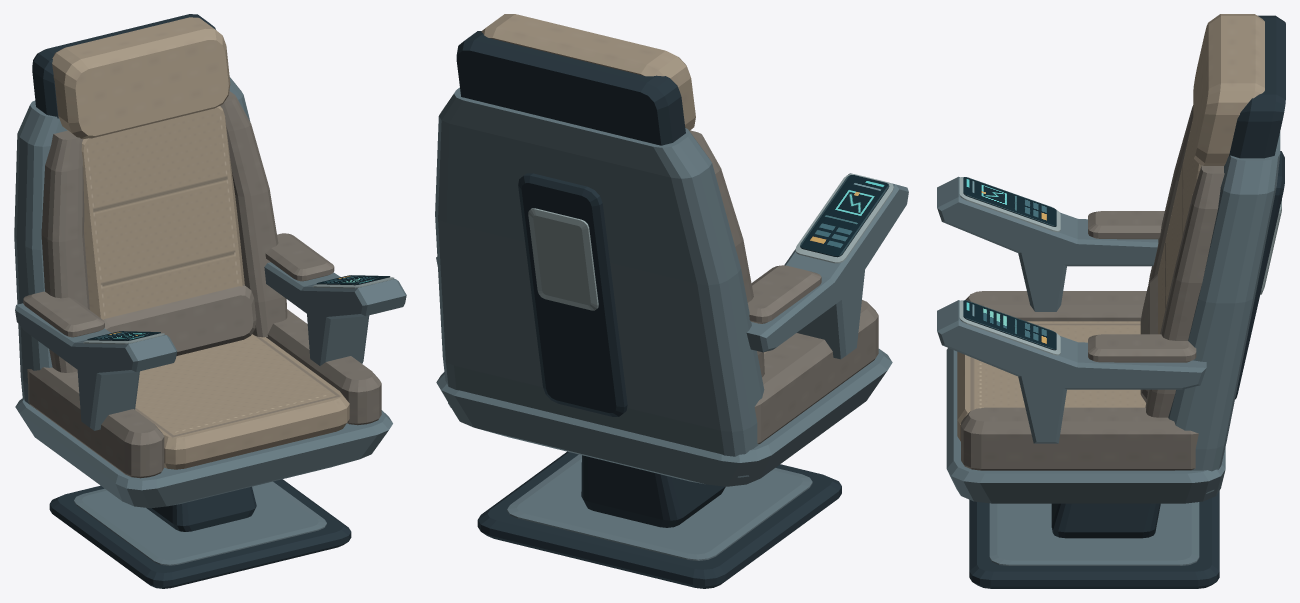
The model's file is captain_chair.obj.
3 views of the same model, side by side, from view 1: azimuth 30°, elevation 25°; view 2: azimuth 150°, elevation 25°; view 3: azimuth 270°, elevation 25° (orthographic). The views are drawn at different scales.
Visible parts, largest first — view 1: continuous_back_cushion, deep_seat_cushion, independent_padded_headrest, seat_sculpted_undertray, plinth_inset_cap, octagonal_floor_plinth, arm_left_sculpted_control_bridge, tapered_back_protective_shell, left_shoulder_bolster, right_shoulder_bolster, arm_right_sculpted_control_bridge, left_seat_bolster (+6 smaller); view 2: tapered_back_protective_shell, seat_sculpted_undertray, headrest_backing, rear_central_spine, plinth_inset_cap, octagonal_floor_plinth, arm_left_sculpted_control_bridge, left_seat_bolster, independent_padded_headrest, tapered_support_pedestal, rear_service_cover, arm_left_black_touch_surface (+3 smaller); view 3: tapered_back_protective_shell, right_seat_bolster, arm_right_sculpted_control_bridge, seat_sculpted_undertray, arm_left_sculpted_control_bridge, plinth_inset_cap, octagonal_floor_plinth, independent_padded_headrest, deep_seat_cushion, right_shoulder_bolster, headrest_backing, left_seat_bolster (+11 smaller).
Boxes of the visible parts, <box> form: continuous_back_cushion: <box>81,106,244,319</box>; deep_seat_cushion: <box>135,334,349,469</box>; independent_padded_headrest: <box>52,17,230,139</box>; seat_sculpted_undertray: <box>15,398,392,508</box>; plinth_inset_cap: <box>74,481,326,565</box>; octagonal_floor_plinth: <box>49,479,351,588</box>; arm_left_sculpted_control_bridge: <box>15,303,177,430</box>; tapered_back_protective_shell: <box>14,77,250,409</box>; left_shoulder_bolster: <box>41,130,89,372</box>; right_shoulder_bolster: <box>220,91,287,337</box>; arm_right_sculpted_control_bridge: <box>264,262,406,365</box>; left_seat_bolster: <box>27,367,164,478</box>; tapered_back_protective_shell: <box>435,87,767,477</box>; seat_sculpted_undertray: <box>436,349,892,486</box>; headrest_backing: <box>456,31,685,145</box>; rear_central_spine: <box>518,173,627,416</box>; plinth_inset_cap: <box>507,454,812,560</box>; octagonal_floor_plinth: <box>477,451,841,588</box>; arm_left_sculpted_control_bridge: <box>746,173,908,359</box>; left_seat_bolster: <box>754,300,878,443</box>; independent_padded_headrest: <box>481,14,695,130</box>; tapered_support_pedestal: <box>581,455,725,527</box>; rear_service_cover: <box>528,208,598,310</box>; arm_left_black_touch_surface: <box>800,175,889,257</box>; tapered_back_protective_shell: <box>1168,131,1280,493</box>; right_seat_bolster: <box>961,407,1198,470</box>; arm_right_sculpted_control_bridge: <box>937,300,1206,443</box>; seat_sculpted_undertray: <box>946,348,1225,503</box>; arm_left_sculpted_control_bridge: <box>937,176,1158,311</box>; plinth_inset_cap: <box>989,502,1199,565</box>; octagonal_floor_plinth: <box>969,491,1219,588</box>; independent_padded_headrest: <box>1193,14,1264,165</box>; deep_seat_cushion: <box>957,321,1145,441</box>; right_shoulder_bolster: <box>1145,165,1224,417</box>; headrest_backing: <box>1229,15,1285,158</box>; left_seat_bolster: <box>965,291,1146,321</box>.
Bounding box in the file's own units: 0.9125 × 1.41 × 0.914.
